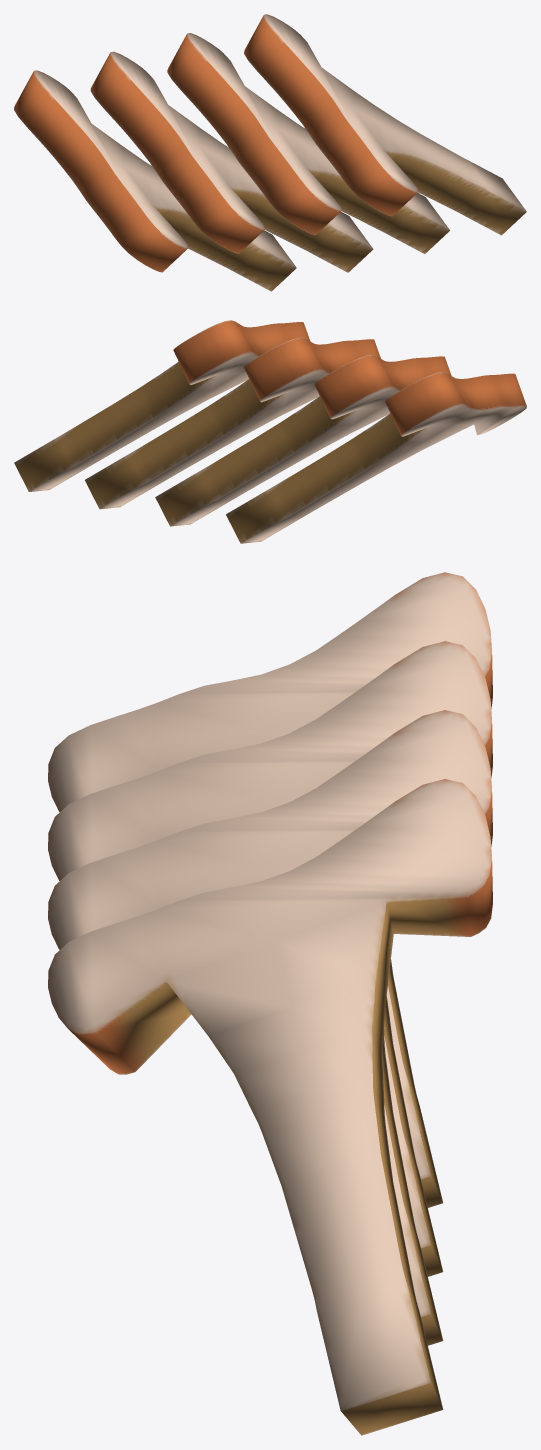
File: Explosao_cortado.fbx
The picture shows the model from 3 angles, top to bottom: view 1: azimuth 30°, elevation 25°; view 2: azimuth 150°, elevation 25°; view 3: azimuth 270°, elevation 25°; orthographic projection. The views are drawn at different scales.
Parts seen in each view (by area): view 1: Explosao_cortado; view 2: Explosao_cortado; view 3: Explosao_cortado.
Part boxes in pixels (x1=…): Explosao_cortado: x1=14, y1=14, x2=526, y2=291; Explosao_cortado: x1=14, y1=320, x2=526, y2=543; Explosao_cortado: x1=48, y1=572, x2=492, y2=1435.
Size of the model in its own units: 261 by 130 by 113.
